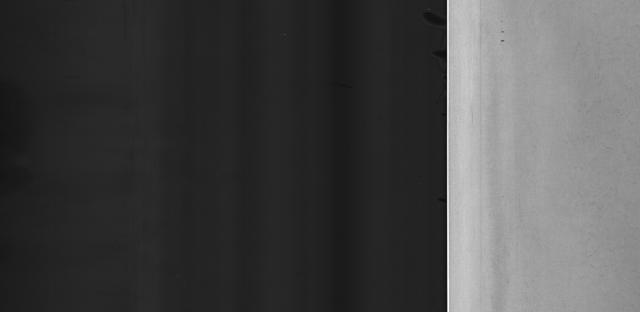inclusion: (496, 18, 508, 44)
silk_spot: (561, 5, 640, 304)
